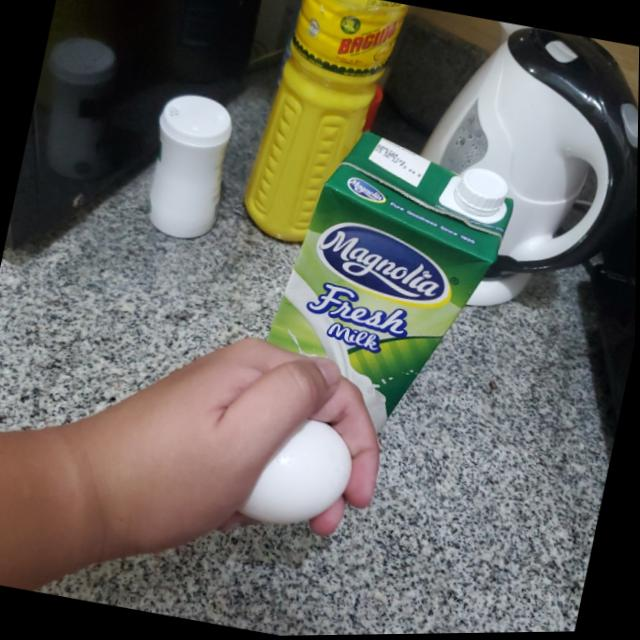egg: (246, 406, 364, 538)
milk: (253, 120, 522, 453)
